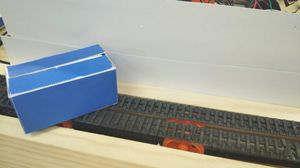box3: (4, 43, 119, 133)
